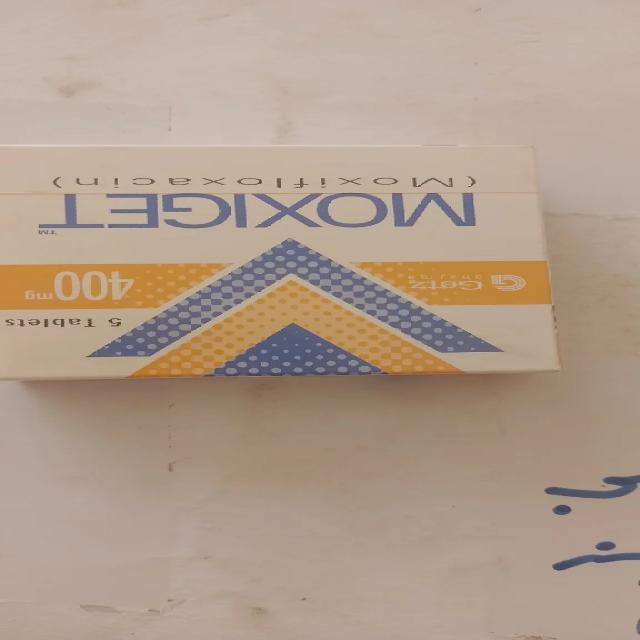drug-name: (32, 190, 479, 232)
